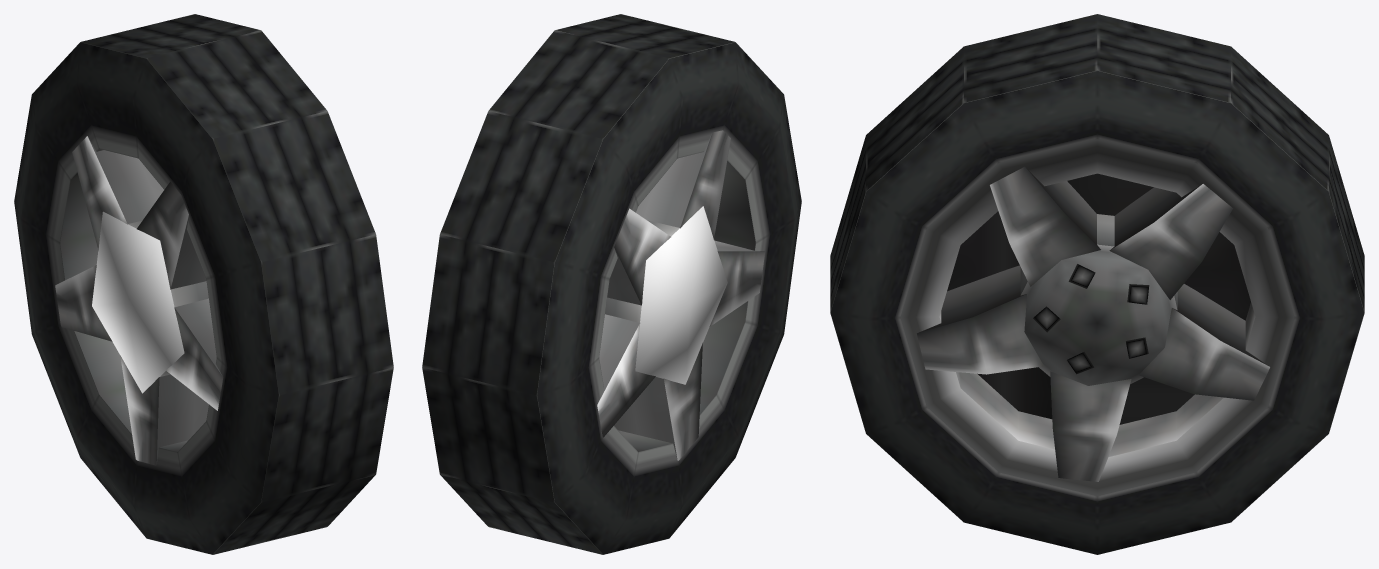
The model's file is wheel_gn5.glb.
The picture shows the model from 3 angles, left to right: view 1: azimuth 30°, elevation 25°; view 2: azimuth 150°, elevation 25°; view 3: azimuth 270°, elevation 25°; orthographic projection.
Visible parts, largest first — view 1: wheel_gn5; view 2: wheel_gn5; view 3: wheel_gn5.
Part boxes in pixels (left/top/right/bottom): wheel_gn5: left=14, top=14, right=393, bottom=554; wheel_gn5: left=422, top=14, right=801, bottom=554; wheel_gn5: left=830, top=14, right=1364, bottom=554.
Size of the model in its own units: 0.3373 by 0.9842 by 0.9842.
4 materials, 4 textured.
